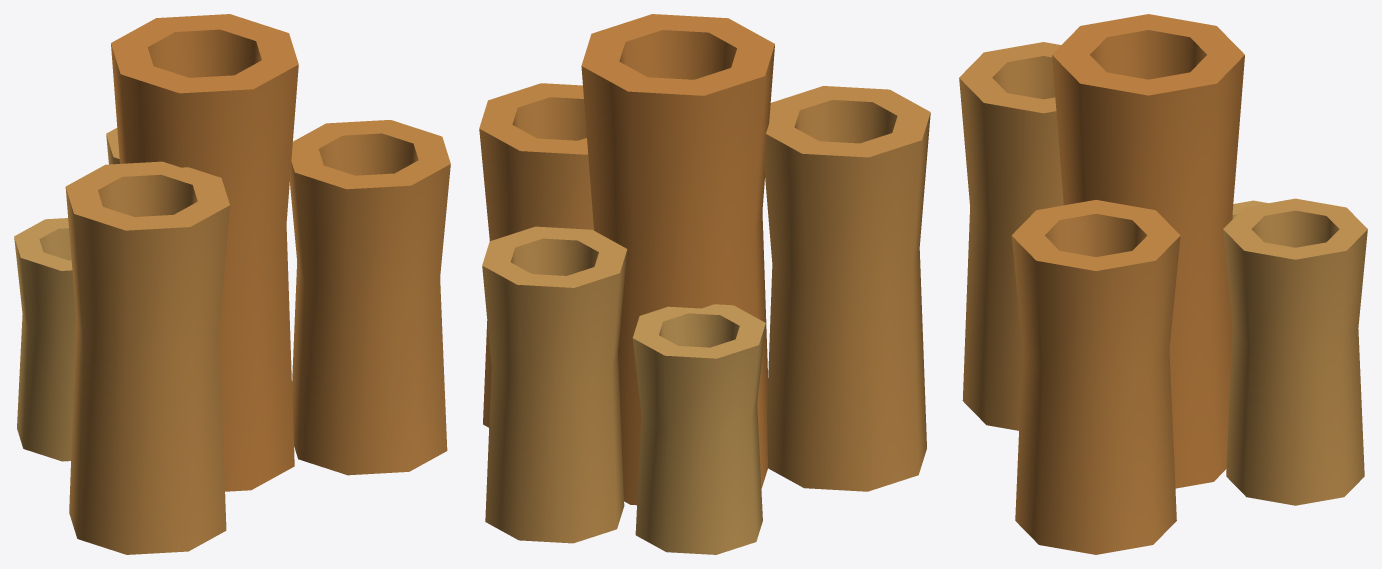
File: coral-d.glb
The picture shows the model from 3 angles, left to right: view 1: azimuth 30°, elevation 25°; view 2: azimuth 150°, elevation 25°; view 3: azimuth 270°, elevation 25°; orthographic projection. The views are drawn at different scales.
Visible parts, largest first — view 1: coral-d; view 2: coral-d; view 3: coral-d.
Part boxes in pixels (x1,y1,x2,y2): coral-d: (14,14,450,554); coral-d: (479,14,930,554); coral-d: (959,14,1367,554).
Bounding box in the file's own units: 0.431 × 0.42 × 0.3895.
